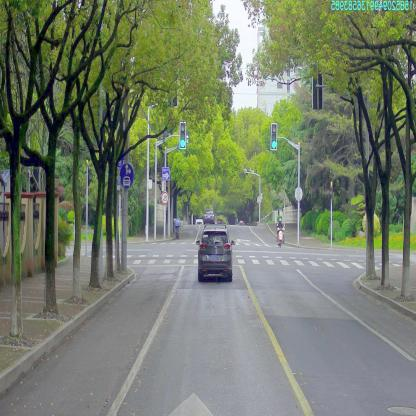traffic-light: (180, 122, 186, 148), (271, 124, 277, 150)
